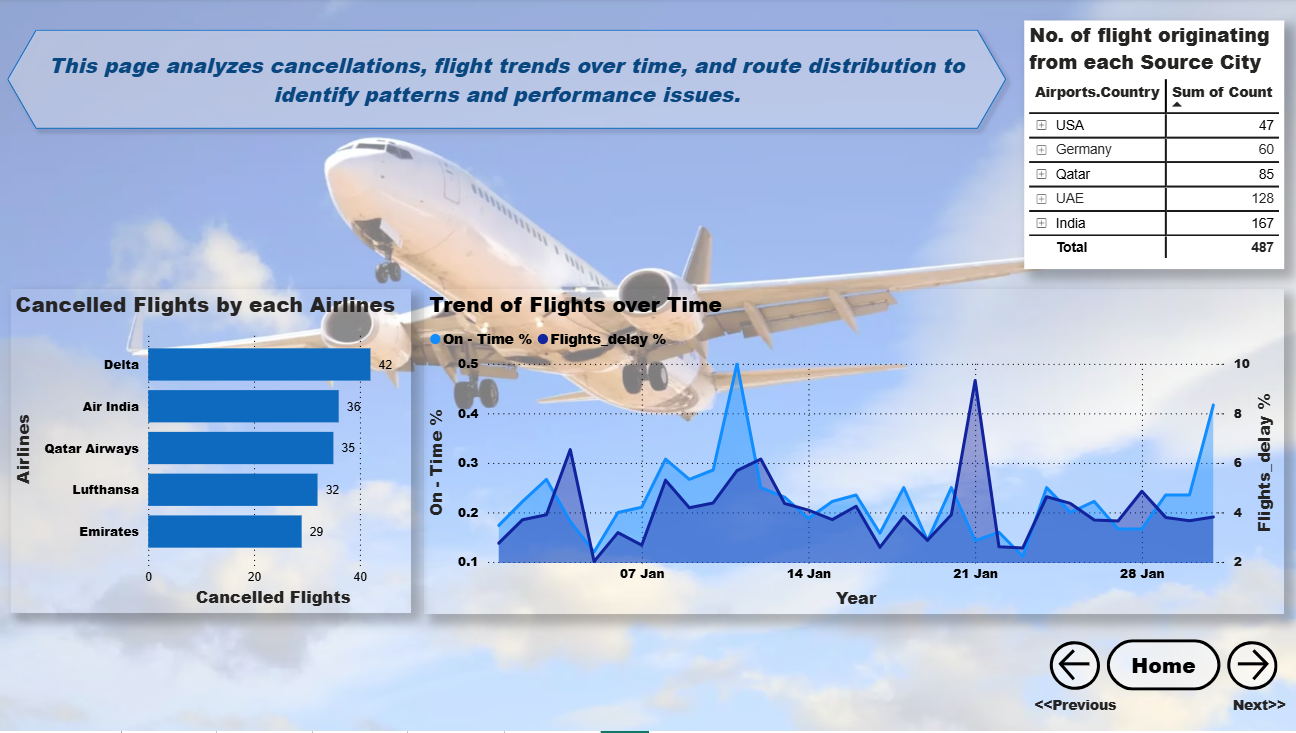

The dashboard page shown, as its layout file describes it:
{"tool":"powerbi","page":{"name":"Page 4","canvas":[1280,720],"ordinal":3},"visuals":[{"type":"pivotTable","title":"No. of  flight originating from each Source City","fields":{"Rows":["Merge1.Airports.Country","Merge1.Airports.City"],"Values":["Sum(Merge1.Count)"]},"box":[1007.4,22.1,255.2,244.2],"z":0},{"type":"lineChart","title":"Trend of Flights over Time","fields":{"Y":["Airlines.On - Time %"],"Category":["Flights.Flights.Date.Variation.Date Hierarchy.Year","Flights.Flights.Date.Variation.Date Hierarchy.Quarter","Flights.Flights.Date.Variation.Date Hierarchy.Month","Flights.Flights.Date.Variation.Date Hierarchy.Day"],"Y2":["Airlines.Flights_delay %"]},"box":[418.4,285.9,844.2,319],"z":1000},{"type":"barChart","title":"Cancelled Flights by each Airlines","fields":{"Category":["Airlines.Airlines.Airline_Name"],"Y":["Flights.Cancelled Flights"]},"box":[12.3,285.9,392.6,317.8],"z":2000},{"type":"textbox","title":"<<Previous","box":[1012.3,684.7,92,27],"z":3000},{"type":"textbox","title":"Next>>","box":[1200,684.7,76.1,27],"z":4000},{"type":"actionButton","box":[1025.8,625.8,62.6,58.9],"z":5000},{"type":"actionButton","box":[1200,625.8,62.6,58.9],"z":6000},{"type":"actionButton","box":[1088.3,629.5,111.7,50.3],"z":7000},{"type":"actionButton","box":[1036.8,634.4,44.2,40.5],"z":8000},{"type":"actionButton","box":[1211,634.4,42.9,40.5],"z":9000},{"type":"shape","box":[0,22.1,998.8,115.3],"z":10000}]}

Visuals, with their boxes in screenshot pixels (x1, y1, x2, y2), scaled from the page's 1280x720 canvas onto the 1296x733 screenshot:
"No. of  flight originating from each Source City" pivotTable: crop(1020, 22, 1278, 271)
"Trend of Flights over Time" lineChart: crop(424, 291, 1278, 616)
"Cancelled Flights by each Airlines" barChart: crop(12, 291, 410, 615)
"<<Previous" textbox: crop(1025, 697, 1118, 725)
"Next>>" textbox: crop(1215, 697, 1292, 725)
actionButton: crop(1039, 637, 1102, 697)
actionButton: crop(1215, 637, 1278, 697)
actionButton: crop(1102, 641, 1215, 692)
actionButton: crop(1050, 646, 1095, 687)
actionButton: crop(1226, 646, 1270, 687)
shape: crop(0, 22, 1011, 140)
